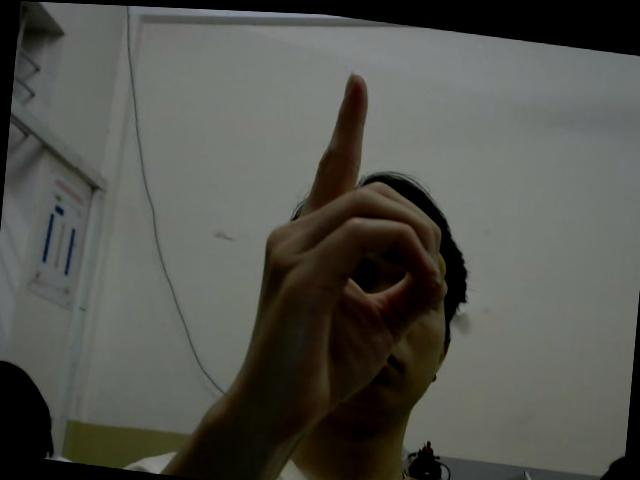D: (243, 53, 464, 429)
